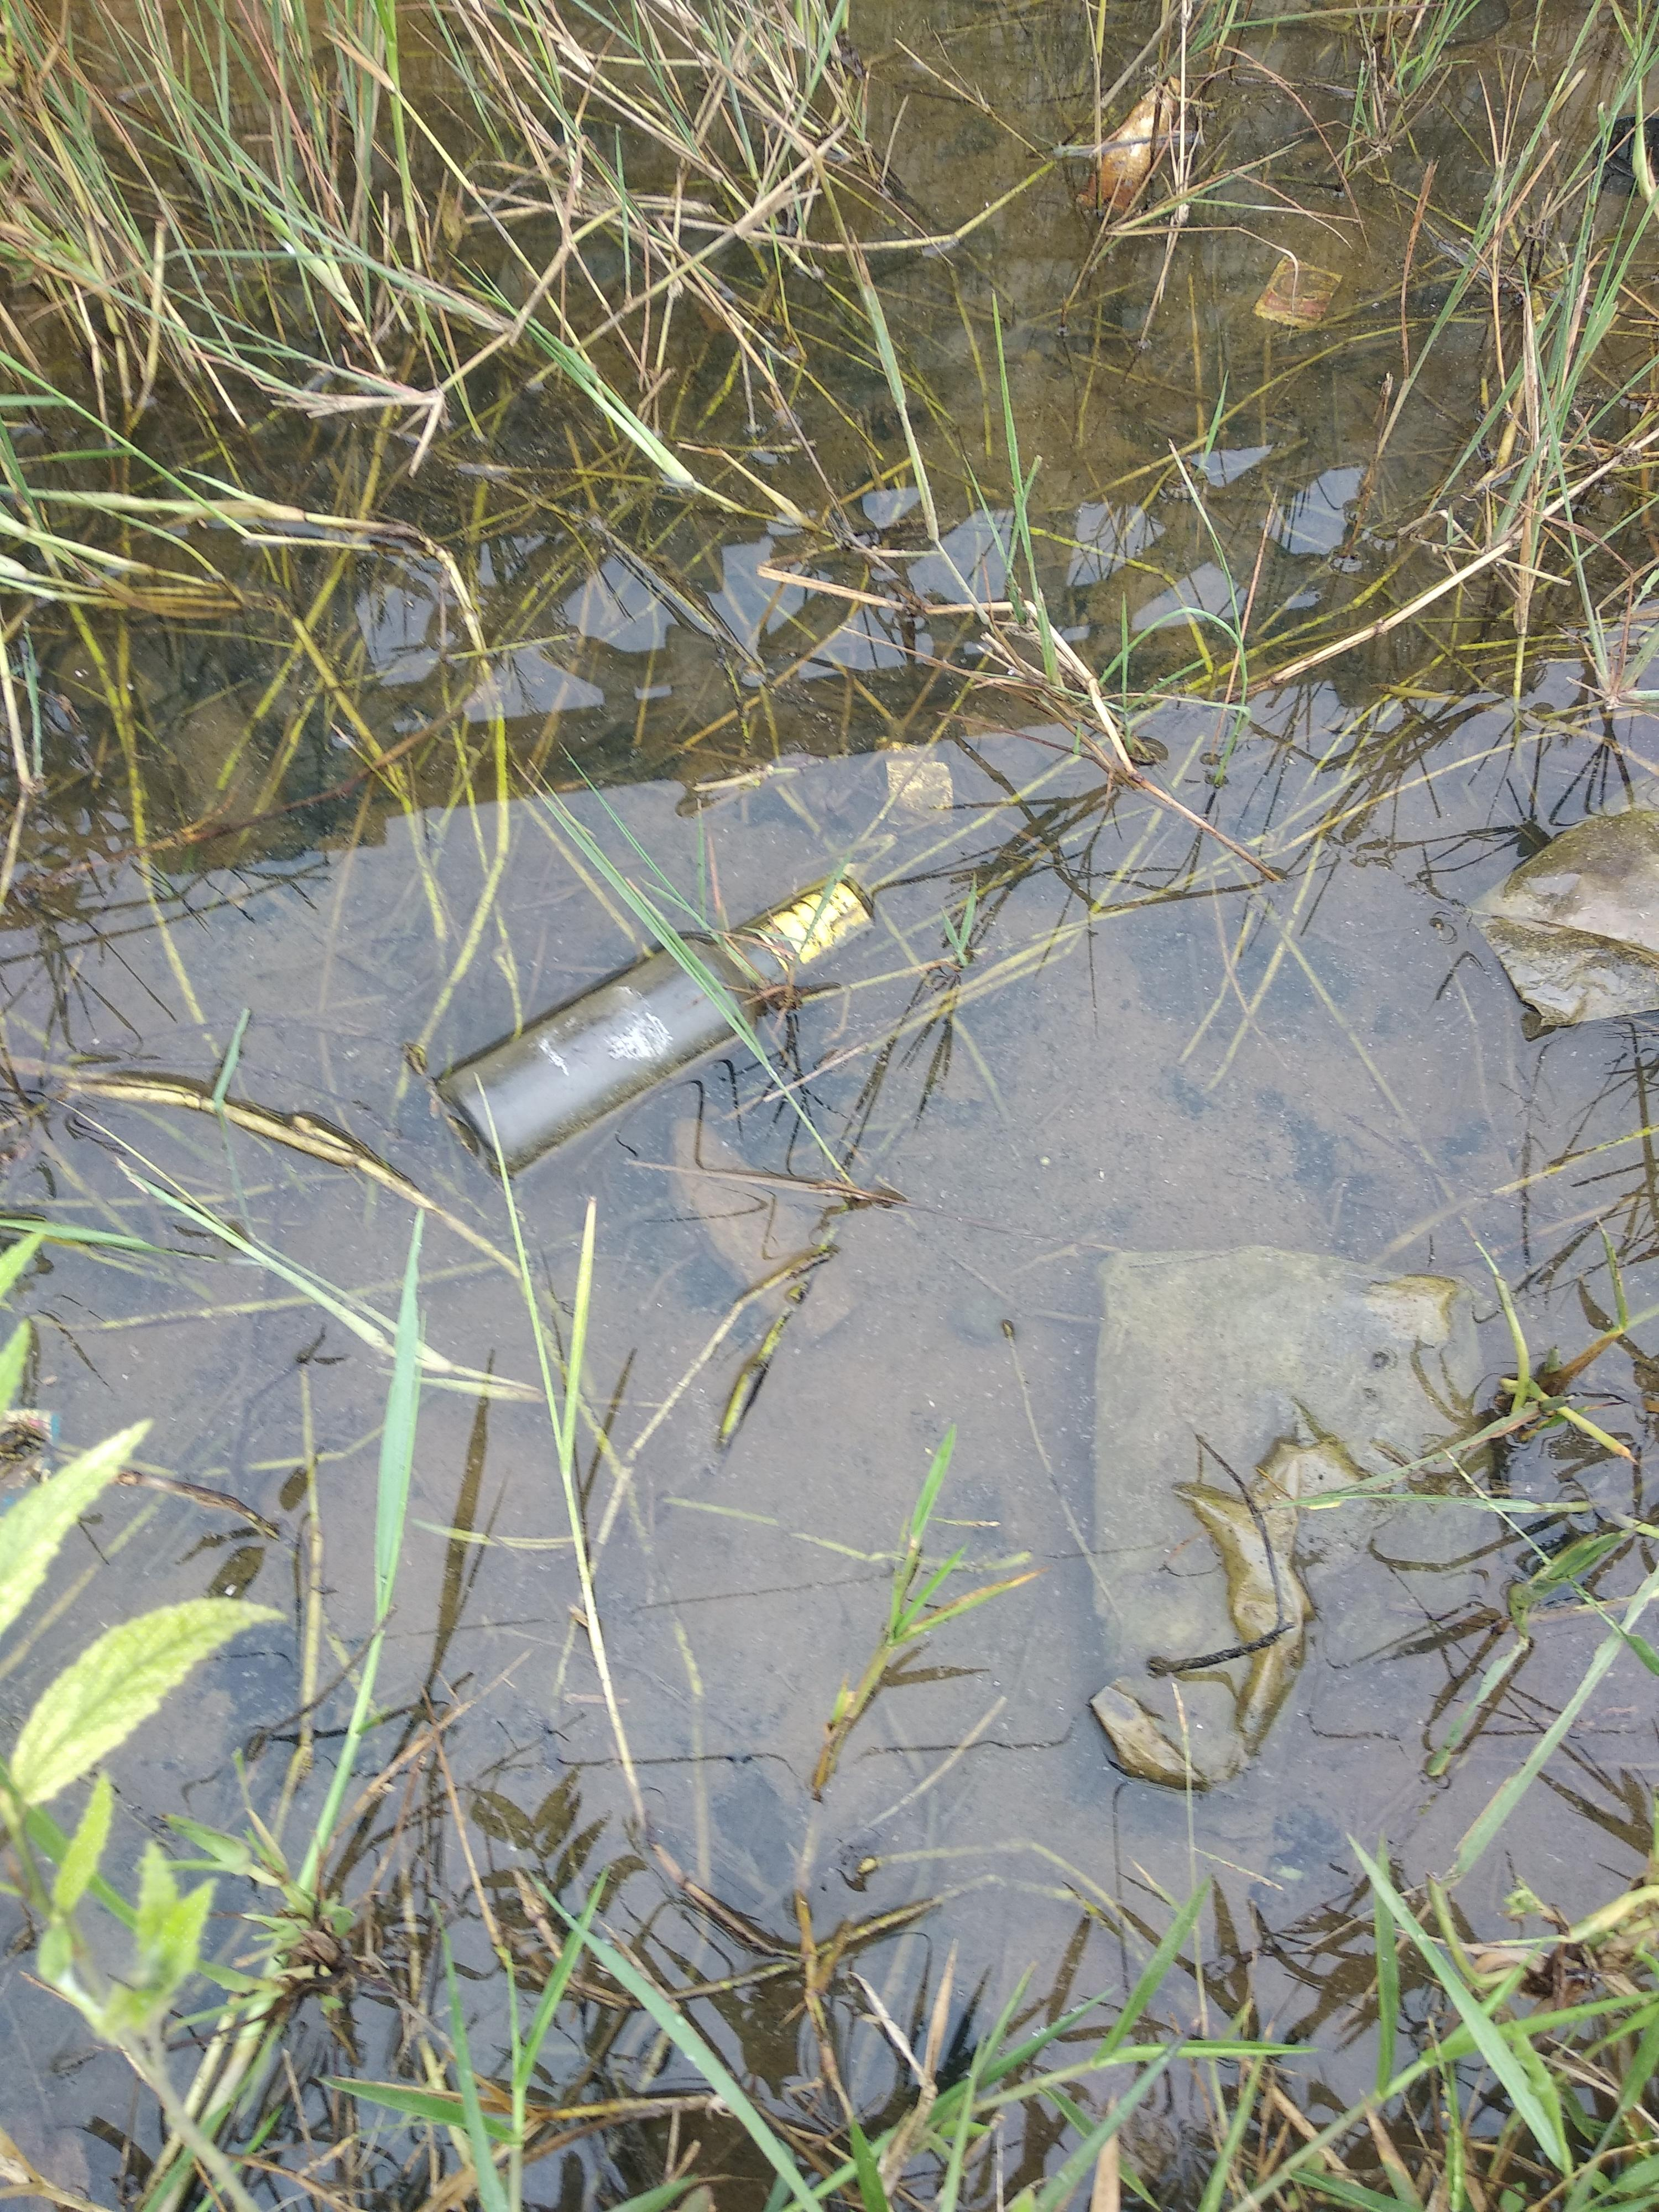trash: (422, 876, 906, 1186)
